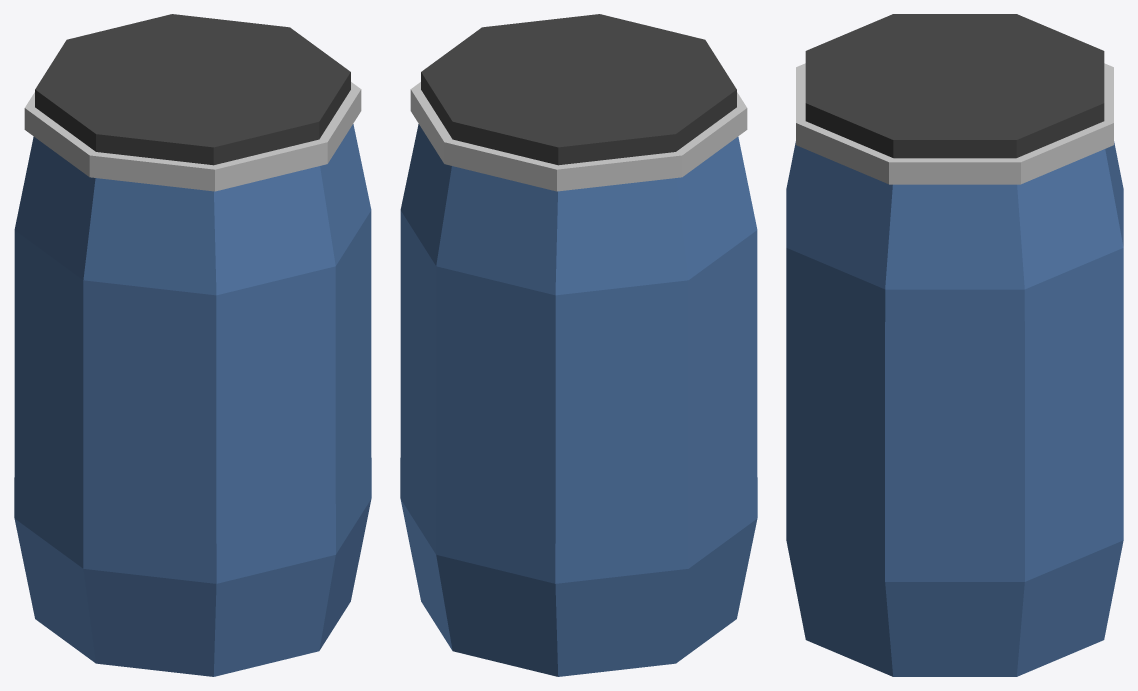
Rendered from SM_IndustrialProps_Barrel_01.fbx.
The picture shows the model from 3 angles, left to right: view 1: azimuth 30°, elevation 25°; view 2: azimuth 150°, elevation 25°; view 3: azimuth 270°, elevation 25°; orthographic projection.
Visible parts, largest first — view 1: SM_IndustrialProps_Barrel_01; view 2: SM_IndustrialProps_Barrel_01; view 3: SM_IndustrialProps_Barrel_01.
Part boxes in pixels (x1,y1,x2,y2): SM_IndustrialProps_Barrel_01: (14,14,371,676); SM_IndustrialProps_Barrel_01: (400,14,757,676); SM_IndustrialProps_Barrel_01: (786,14,1123,676).
Size of the model in its own units: 0.4856 by 0.8528 by 0.4856.
